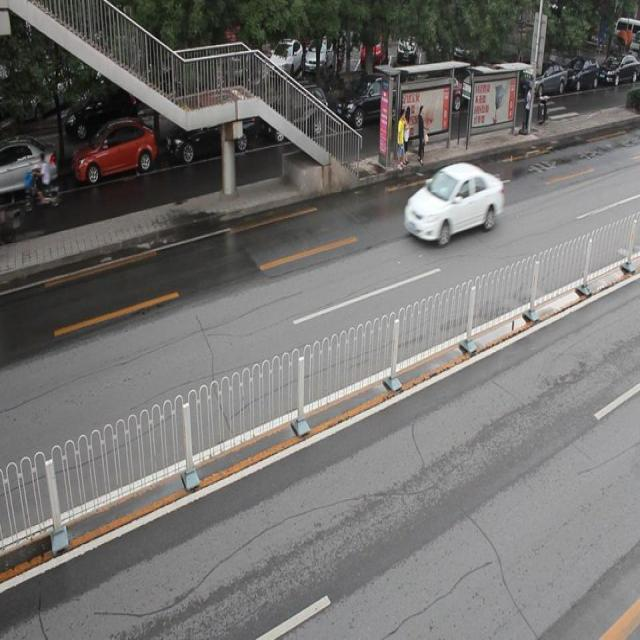car: (403, 165, 502, 244), (72, 120, 157, 182), (167, 106, 256, 162), (264, 89, 328, 142), (334, 75, 398, 128), (0, 139, 54, 200)
